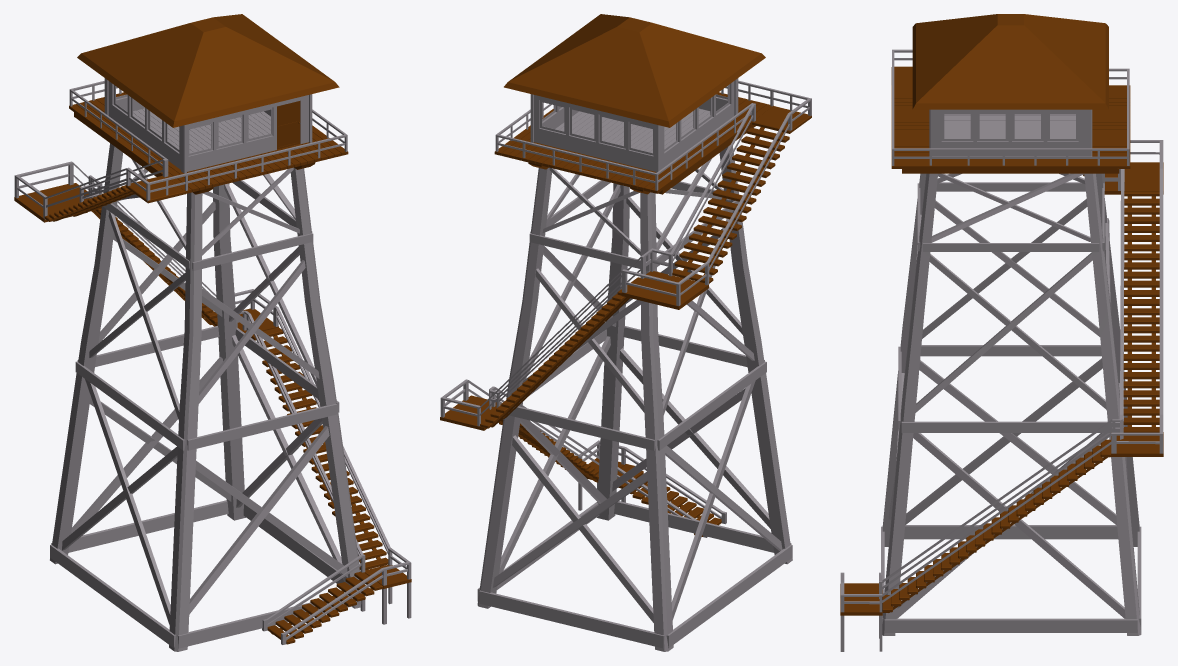
File: FireTower.fbx
3 renders of one model, left to right at view 1: azimuth 30°, elevation 25°; view 2: azimuth 150°, elevation 25°; view 3: azimuth 270°, elevation 25°, orthographic. The views are drawn at different scales.
Visible parts, largest first — view 1: WatchTower, Door; view 2: WatchTower; view 3: WatchTower.
Boxes of the visible parts, left/top/right/bottom form: WatchTower: left=14, top=14, right=411, bottom=651; Door: left=277, top=101, right=300, bottom=149; WatchTower: left=440, top=14, right=811, bottom=651; WatchTower: left=840, top=14, right=1163, bottom=651.
Size of the model in its own units: 802 by 1798 by 919.
